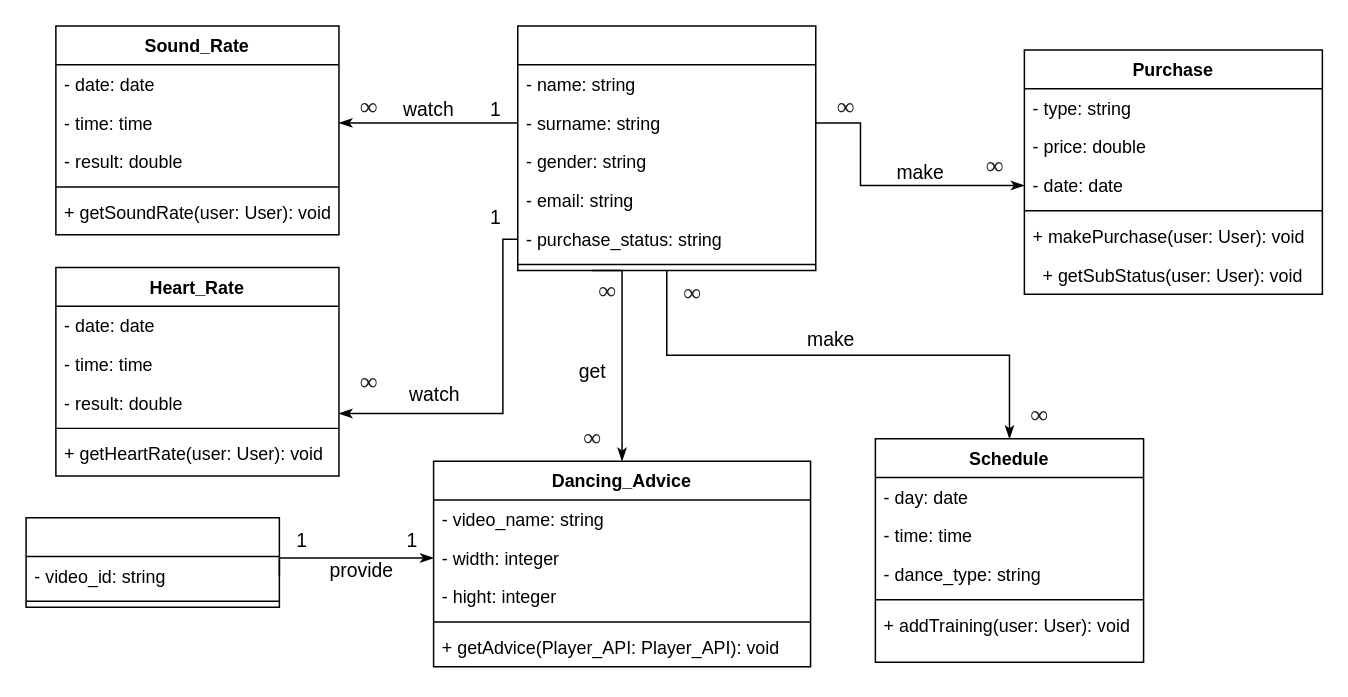
The diagram is 1348 pixels wide and 697 high, and some of its shapes have lost their labels. Each missing label, with the box of its shape:
Player_API: (25, 516, 279, 607)
User: (516, 25, 816, 270)
